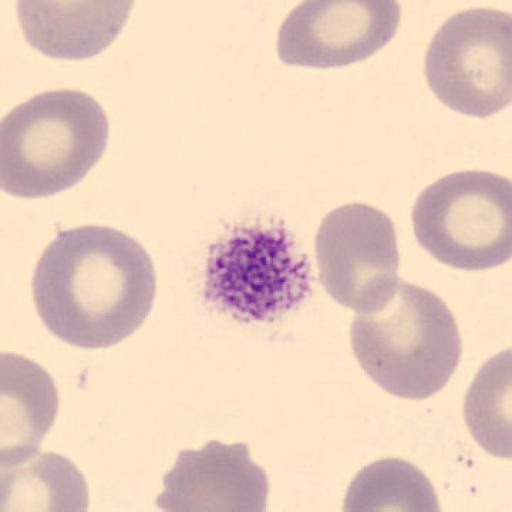Platelet: (197, 220, 322, 324)
RBC: (30, 220, 159, 353), (347, 274, 464, 404), (1, 88, 111, 200), (409, 168, 511, 274), (422, 5, 512, 121), (312, 200, 402, 312), (274, 0, 404, 72), (155, 437, 272, 512), (12, 0, 136, 63), (2, 350, 61, 468), (340, 454, 442, 512), (462, 345, 512, 462), (1, 450, 91, 512), (52, 0, 136, 25)
